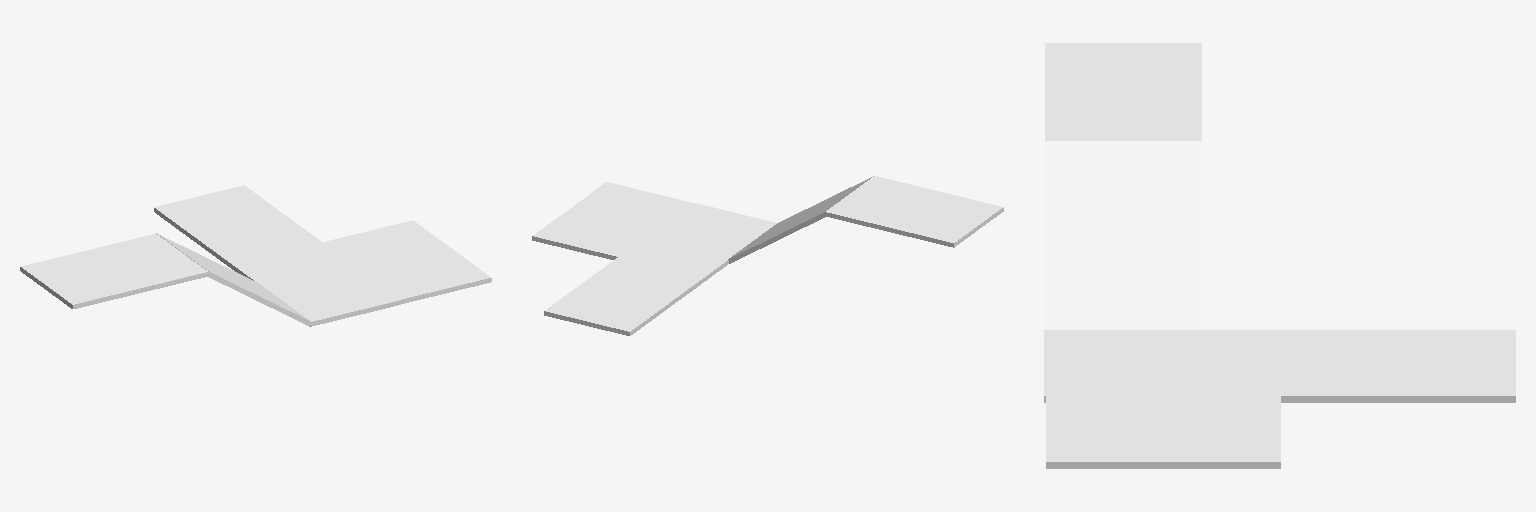
robot.urdf — stair_bauzil:
<robot name="stair_bauzil">
  <link name="base_link">
    <visual>
      <origin xyz="0 0 0" rpy="0 0 0" />
      <geometry>
        <mesh filename="package://hpp-rbprm-corba/meshes/downSlope2.stl"/>
      </geometry>
      <material name="white">
        <color rgba="1 1 1 1"/>
      </material>
    </visual>
    <collision>
      <origin xyz="0 0 0" rpy="0 0 0" />
      <geometry>
        <mesh filename="package://hpp-rbprm-corba/meshes/downSlope2.stl"/>
      </geometry>
    </collision>
  </link>
</robot>

--- Facts derived from the render (not from the file) ---
Views: 3 orthographic renders of the robot side by side, from view 1: azimuth 30°, elevation 25°; view 2: azimuth 150°, elevation 25°; view 3: azimuth 270°, elevation 25°.
Robot: stair_bauzil — 1 links, 0 joints (none); root link base_link; default pose: all joints at 0.
Links seen in each view (by area): view 1: base_link; view 2: base_link; view 3: base_link.
Link boxes in pixels (<box>): base_link: <box>20,185,491,326</box>; base_link: <box>532,176,1003,335</box>; base_link: <box>1044,43,1515,468</box>.
Size in the robot's own frame: 9.25 by 6 by 1.69 metres.
1 mesh visuals loaded from 1 distinct referenced files (1 binary STL).